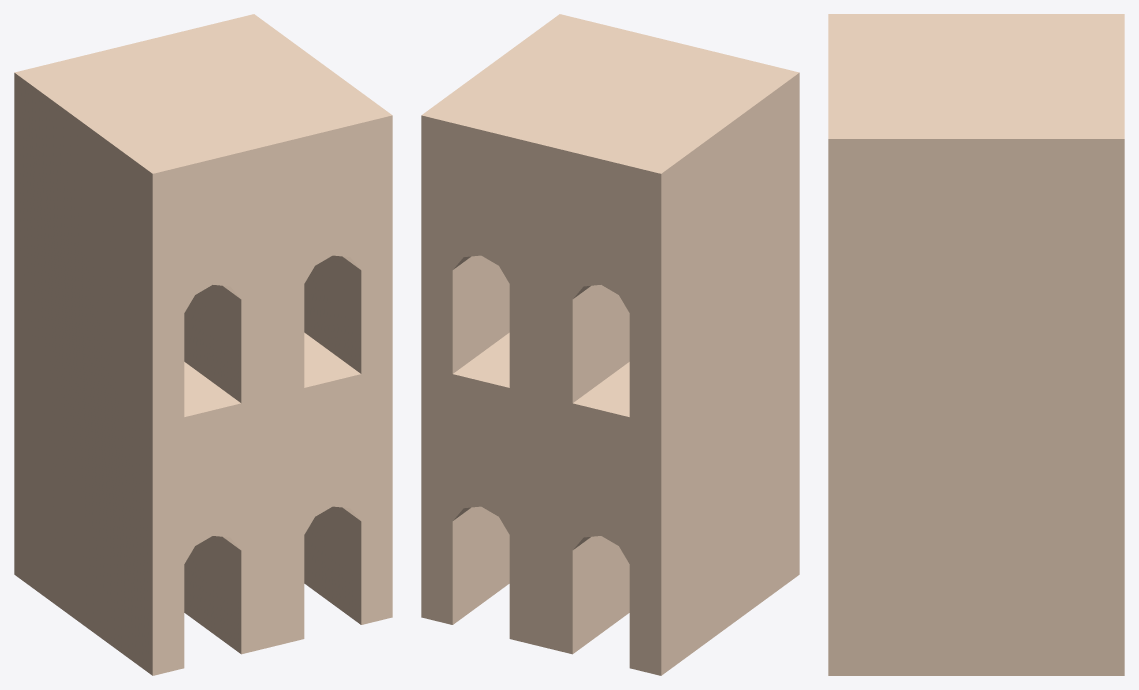
File: Abstract_Castle_Block_2_Unit_Beige_Windows_02.fbx
3 views of the same model, side by side, from view 1: azimuth 30°, elevation 25°; view 2: azimuth 150°, elevation 25°; view 3: azimuth 270°, elevation 25° (orthographic). The views are drawn at different scales.
Parts seen in each view (by area): view 1: Abstract_Castle_Block_2_Unit_Beige_Windows_02; view 2: Abstract_Castle_Block_2_Unit_Beige_Windows_02; view 3: Abstract_Castle_Block_2_Unit_Beige_Windows_02.
Boxes of the visible parts, x1,y1,x2,y2 form: Abstract_Castle_Block_2_Unit_Beige_Windows_02: (14, 14, 392, 675); Abstract_Castle_Block_2_Unit_Beige_Windows_02: (421, 14, 799, 675); Abstract_Castle_Block_2_Unit_Beige_Windows_02: (828, 14, 1124, 675).
Bounding box in the file's own units: 98.43 × 197 × 98.43.
